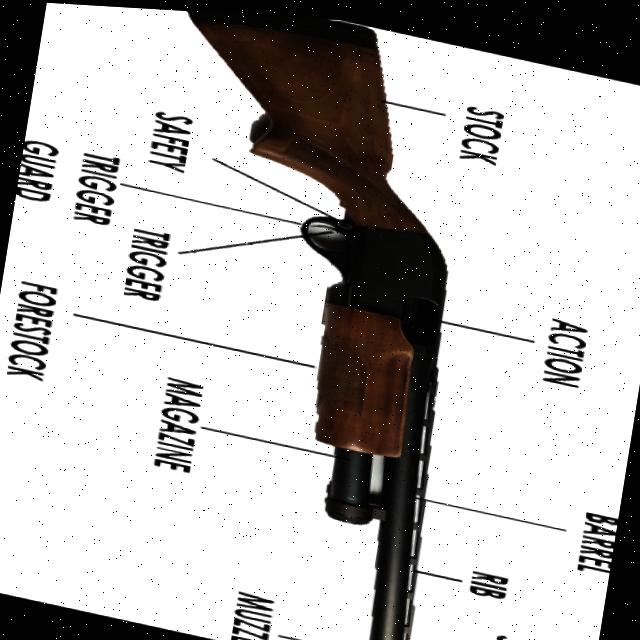firearm: (85, 4, 512, 640)
